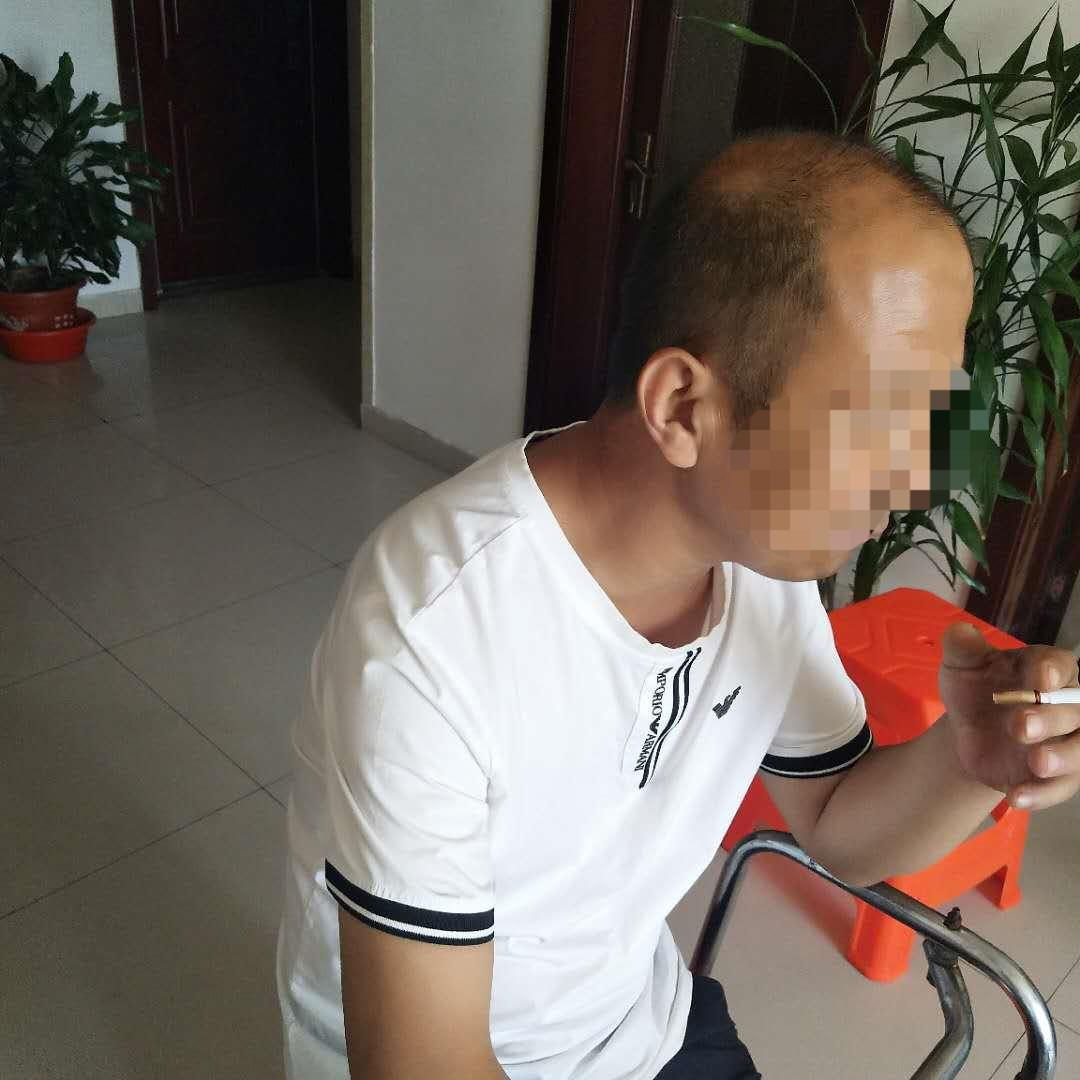smoke: (990, 686, 1080, 713)
